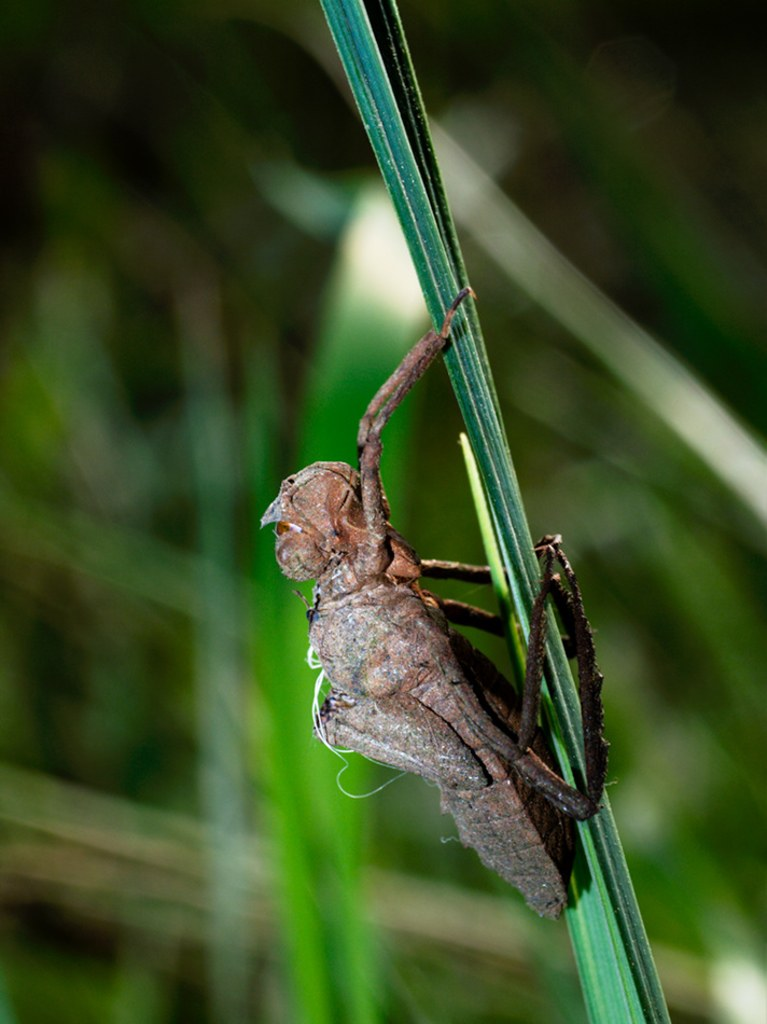insect: (251, 283, 615, 924)
